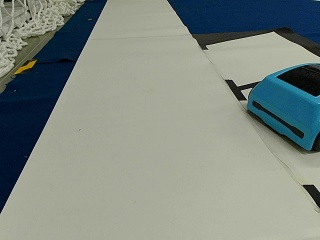car: (248, 61, 318, 152)
